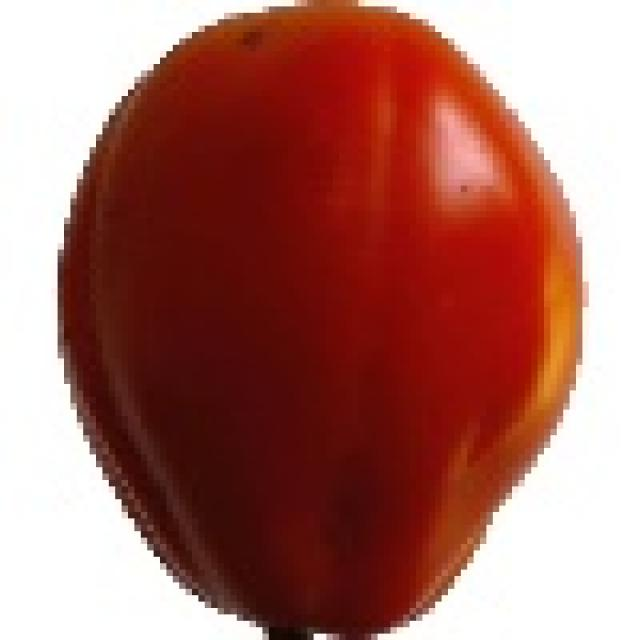tomato: (55, 2, 583, 640)
